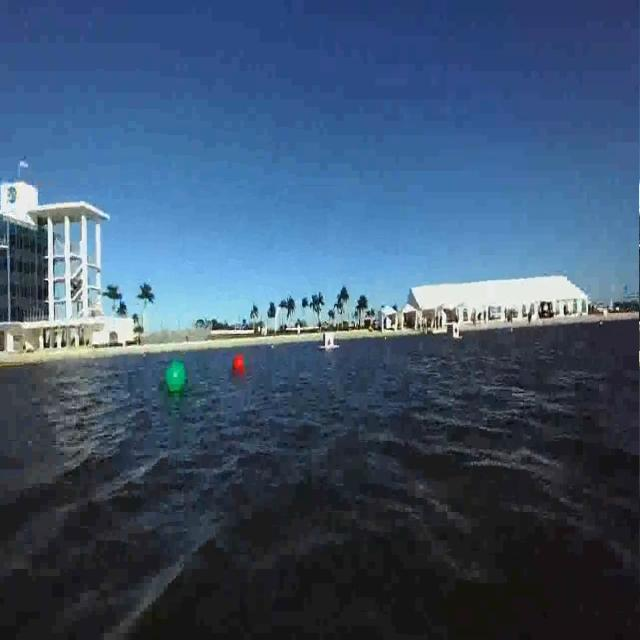green-buoy: (168, 359, 190, 394)
red-column-buoy: (234, 354, 247, 376)
